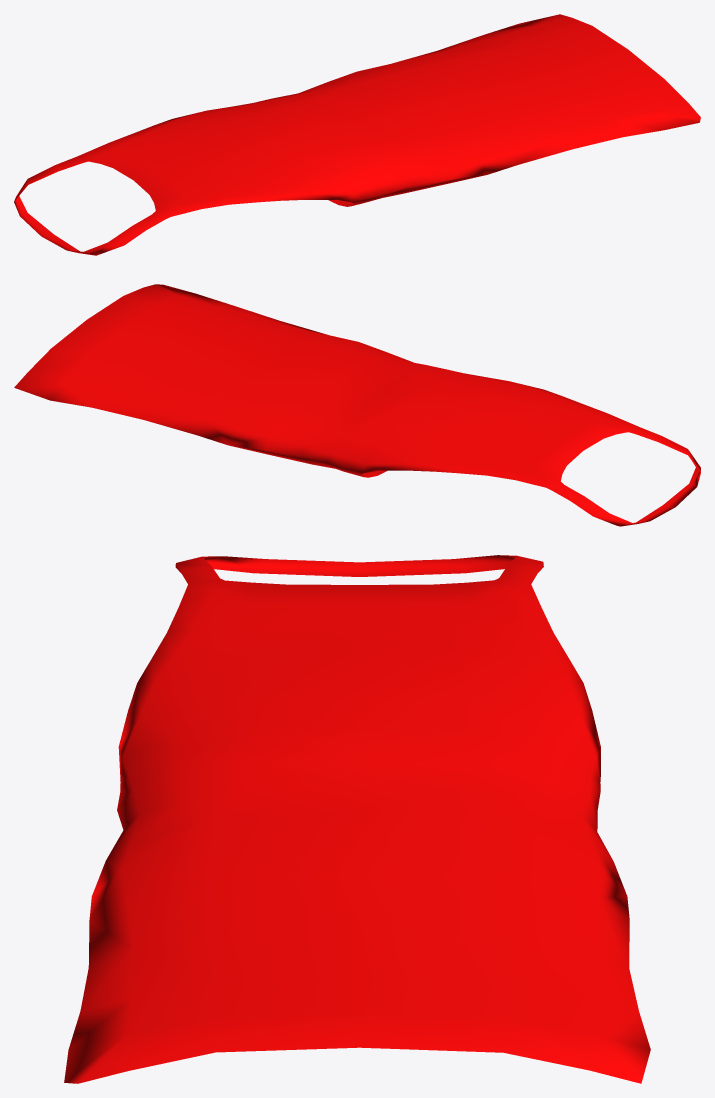
The model's file is apron.fbx.
3 renders of one model, top to bottom at view 1: azimuth 30°, elevation 25°; view 2: azimuth 150°, elevation 25°; view 3: azimuth 270°, elevation 25°, orthographic. The views are drawn at different scales.
Visible parts, largest first — view 1: apron; view 2: apron; view 3: apron.
Part boxes in pixels (<box>): apron: <box>14,14,700,255</box>; apron: <box>14,284,700,526</box>; apron: <box>64,555,650,1083</box>.
Size of the model in its own units: 7239 by 612 by 3121.
